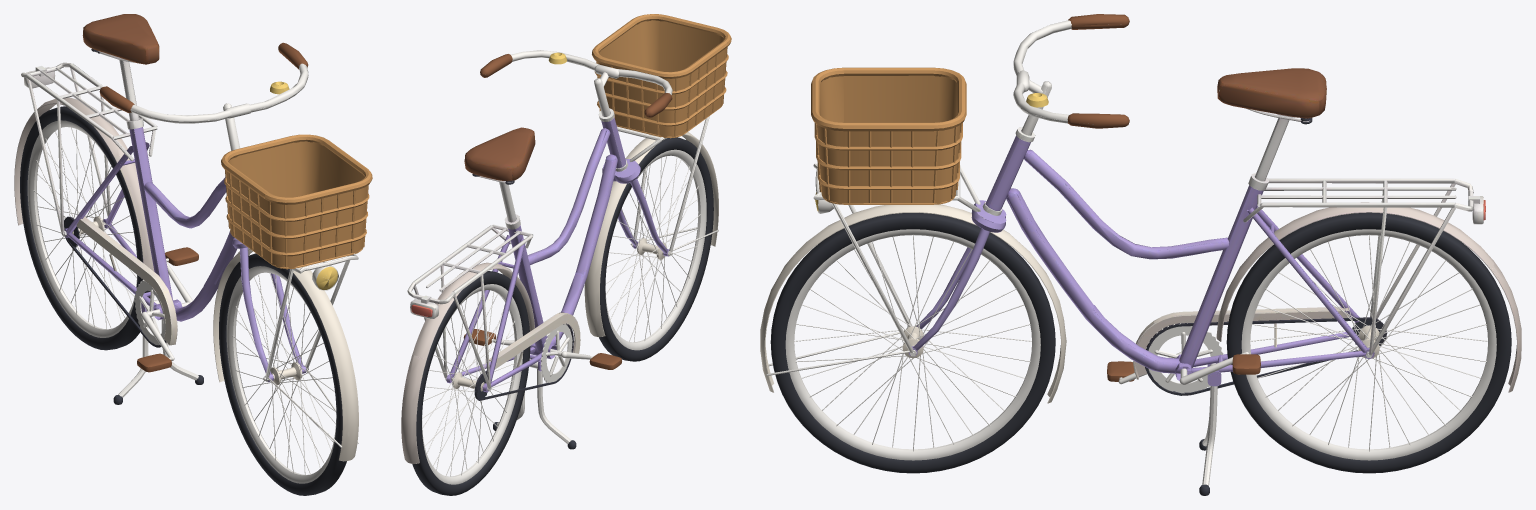
Rendered from bicycle.glb.
3 renders of one model, left to right at view 1: azimuth 30°, elevation 25°; view 2: azimuth 150°, elevation 25°; view 3: azimuth 270°, elevation 25°, orthographic. The views are drawn at different scales.
Parts seen in each view (by area): view 1: bicycle_steering, bicycle_body, bicycle_wheel_front, bicycle_wheel_rear, bicycle_crank, bicycle_kickstand; view 2: bicycle_steering, bicycle_body, bicycle_wheel_front, bicycle_wheel_rear, bicycle_crank, bicycle_kickstand; view 3: bicycle_body, bicycle_steering, bicycle_wheel_front, bicycle_wheel_rear, bicycle_crank, bicycle_kickstand.
Boxes of the visible parts, x1,y1,x2,y2 form: bicycle_steering: [99, 42, 372, 461]; bicycle_body: [14, 14, 236, 347]; bicycle_wheel_front: [219, 253, 346, 495]; bicycle_wheel_rear: [20, 106, 150, 350]; bicycle_crank: [134, 247, 198, 372]; bicycle_kickstand: [113, 299, 203, 404]; bicycle_steering: [480, 14, 731, 337]; bicycle_body: [401, 108, 627, 463]; bicycle_wheel_front: [599, 137, 713, 361]; bicycle_wheel_rear: [412, 271, 530, 495]; bicycle_crank: [463, 324, 621, 384]; bicycle_kickstand: [493, 358, 576, 449]; bicycle_body: [982, 68, 1521, 395]; bicycle_steering: [760, 14, 1129, 403]; bicycle_wheel_front: [770, 213, 1055, 473]; bicycle_wheel_rear: [1226, 212, 1511, 473]; bicycle_crank: [1107, 323, 1260, 394]; bicycle_kickstand: [1199, 363, 1217, 495].
Bounding box in the file's own units: 0.6178 × 1.1 × 1.87.
20 materials, 1 textured.
